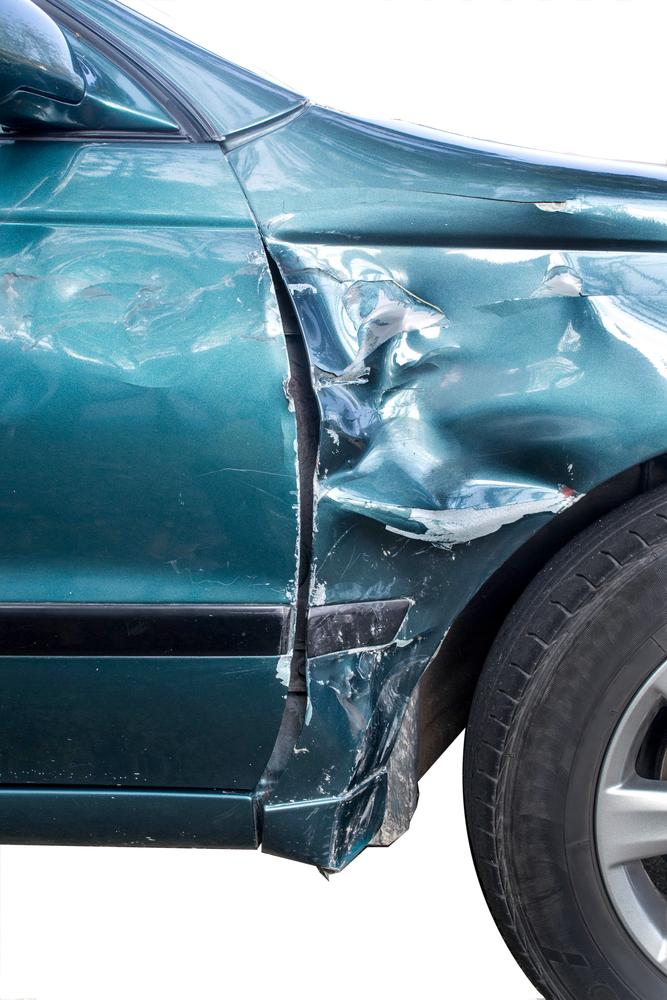dent: (271, 245, 628, 723), (0, 235, 267, 378)
